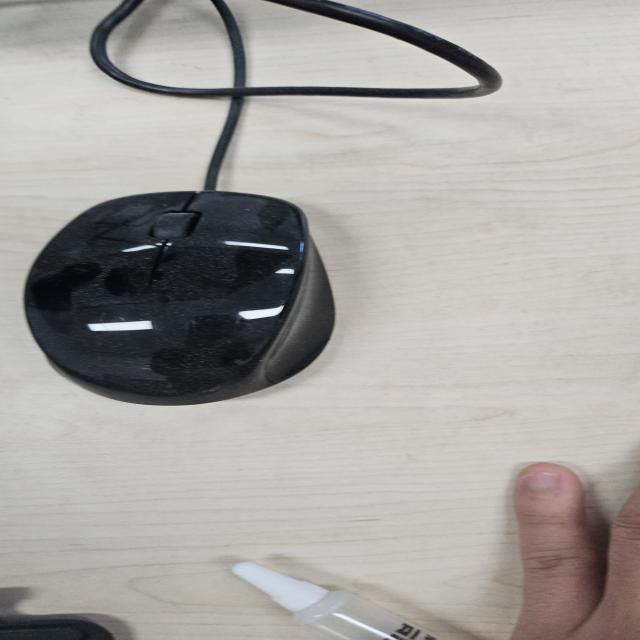Mouse: (22, 188, 339, 406)
